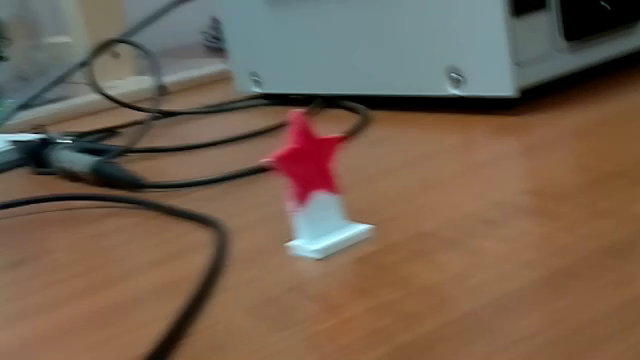star: (248, 104, 399, 262)
